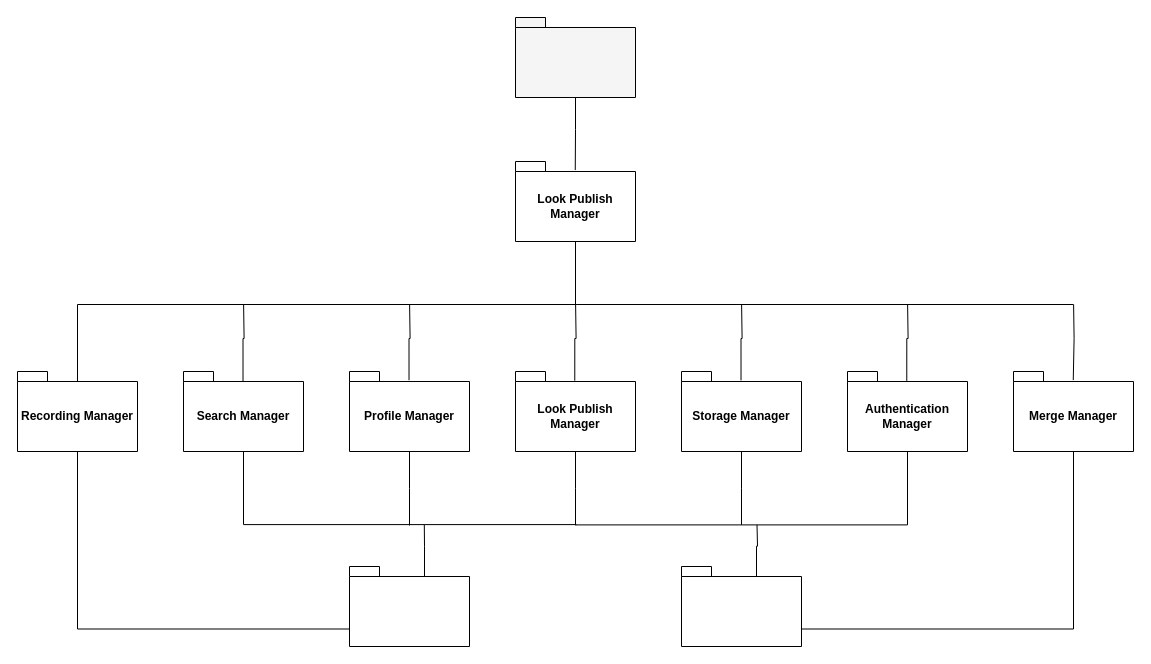
The diagram is 1151 pixels wide and 664 high, and some of its shapes have lost their labels. Here are the shapes that lost their labels. From the top down, the centre of each, then its label:
At point (575, 57): "Driver".
At point (409, 606): "Notification Manager".
At point (741, 606): "Query Manager".
